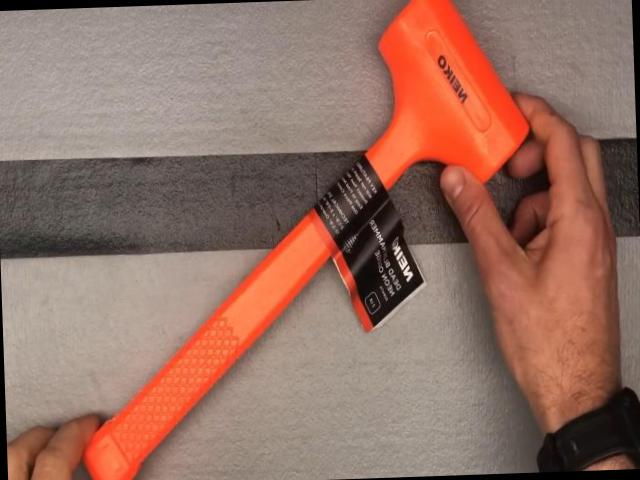hammer: (66, 0, 540, 480)
